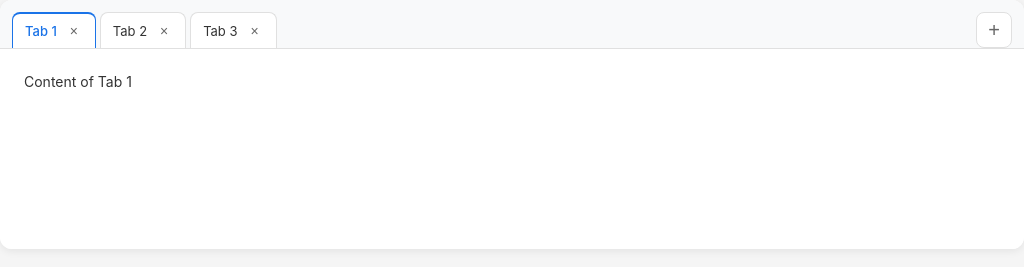
Test case: TabContainer Component › selects next tab when active tab is closed
Click the button named "Close Tab" at (74, 31), box [65, 22, 83, 40]
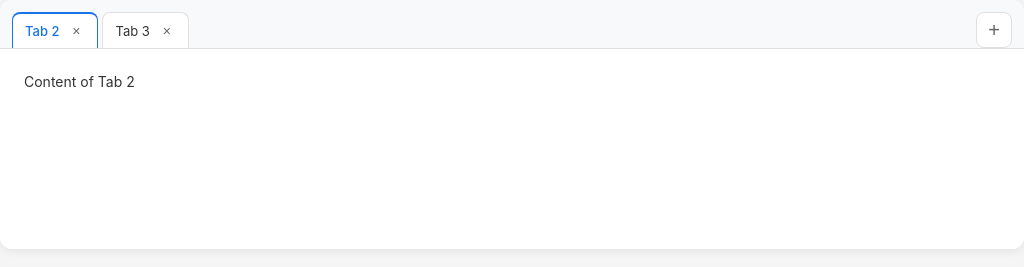
expect the text "Tab 1" is gone: met
expect the text with test id "tab-content" reads "Content of Tab 2": met, box [24, 73, 135, 90]
